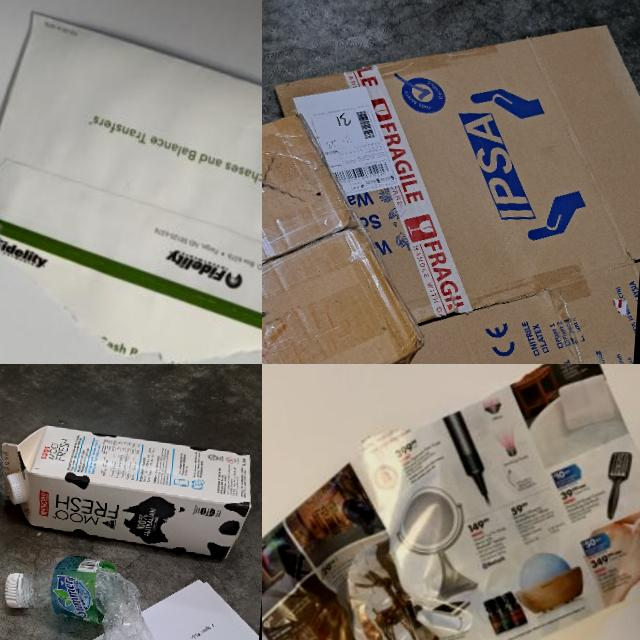caixinha: (0, 421, 254, 562)
garrafa plástica: (19, 552, 169, 640)
papel: (262, 364, 640, 640), (0, 9, 262, 364), (0, 563, 261, 640)
papelão: (262, 0, 640, 364), (262, 101, 436, 364)
tampa plástica: (3, 572, 24, 609), (1, 474, 24, 504)
